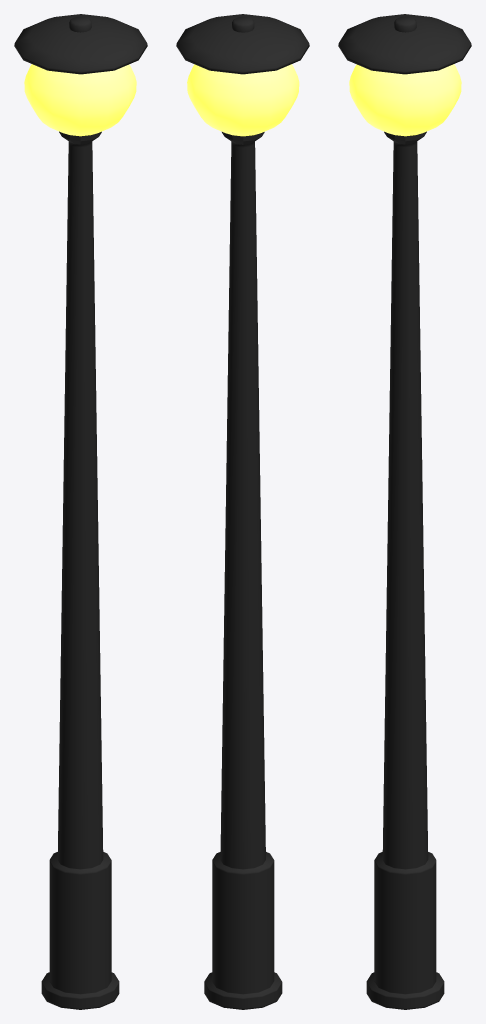
The model's file is light2_attempt.fbx.
3 renders of one model, left to right at view 1: azimuth 90°, elevation 25°; view 2: azimuth 210°, elevation 25°; view 3: azimuth 270°, elevation 25°, orthographic.
Visible parts, largest first — view 1: FarolaModernaBola.001; view 2: FarolaModernaBola.001; view 3: FarolaModernaBola.001.
Part boxes in pixels (x1,y1,x2,y2): FarolaModernaBola.001: (14, 14, 147, 1009); FarolaModernaBola.001: (176, 14, 309, 1009); FarolaModernaBola.001: (338, 14, 471, 1009).
Size of the model in its own units: 44.49 by 358 by 44.49.
